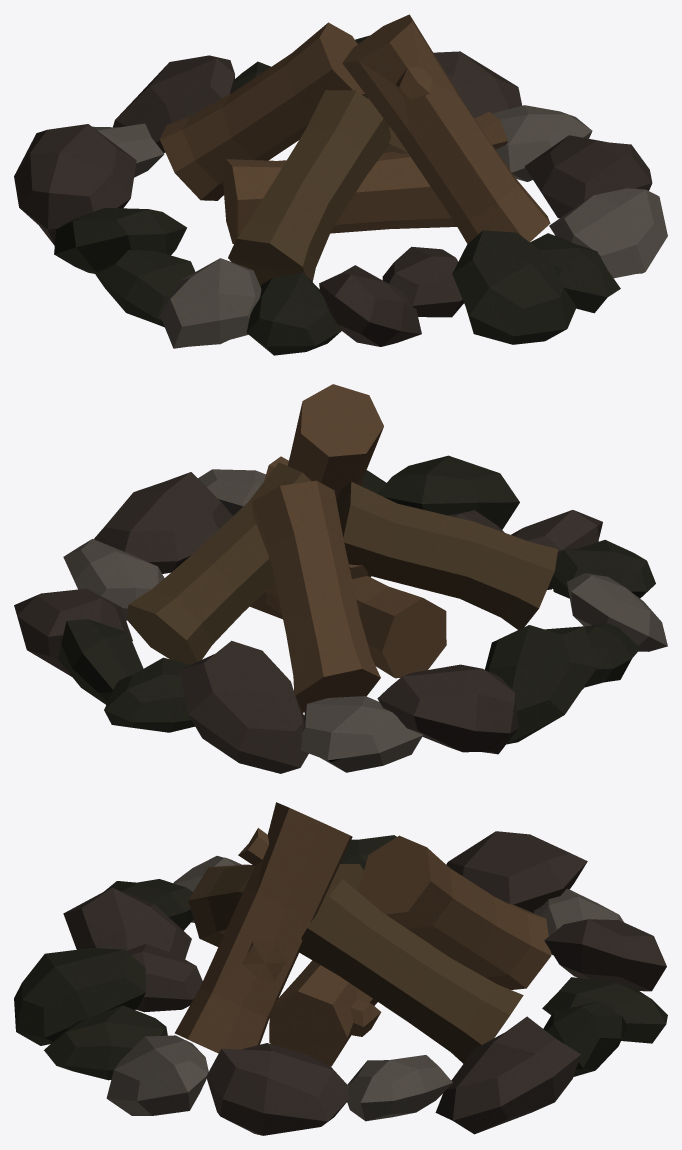
The model's file is Campfire.FBX.
The picture shows the model from 3 angles, top to bottom: view 1: azimuth 30°, elevation 25°; view 2: azimuth 150°, elevation 25°; view 3: azimuth 270°, elevation 25°; orthographic projection.
Visible parts, largest first — view 1: Camp_Fire; view 2: Camp_Fire; view 3: Camp_Fire.
Boxes of the visible parts, box(x1,y1,x2,y2) form: Camp_Fire: box(14, 14, 667, 355); Camp_Fire: box(14, 384, 667, 773); Camp_Fire: box(14, 802, 667, 1135).
Size of the model in its own units: 191 by 83.9 by 205.
